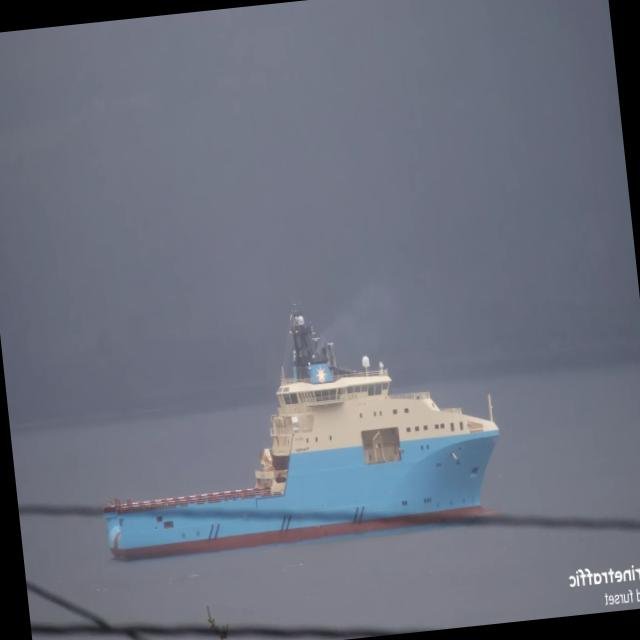Offshore: (103, 309, 499, 559)
